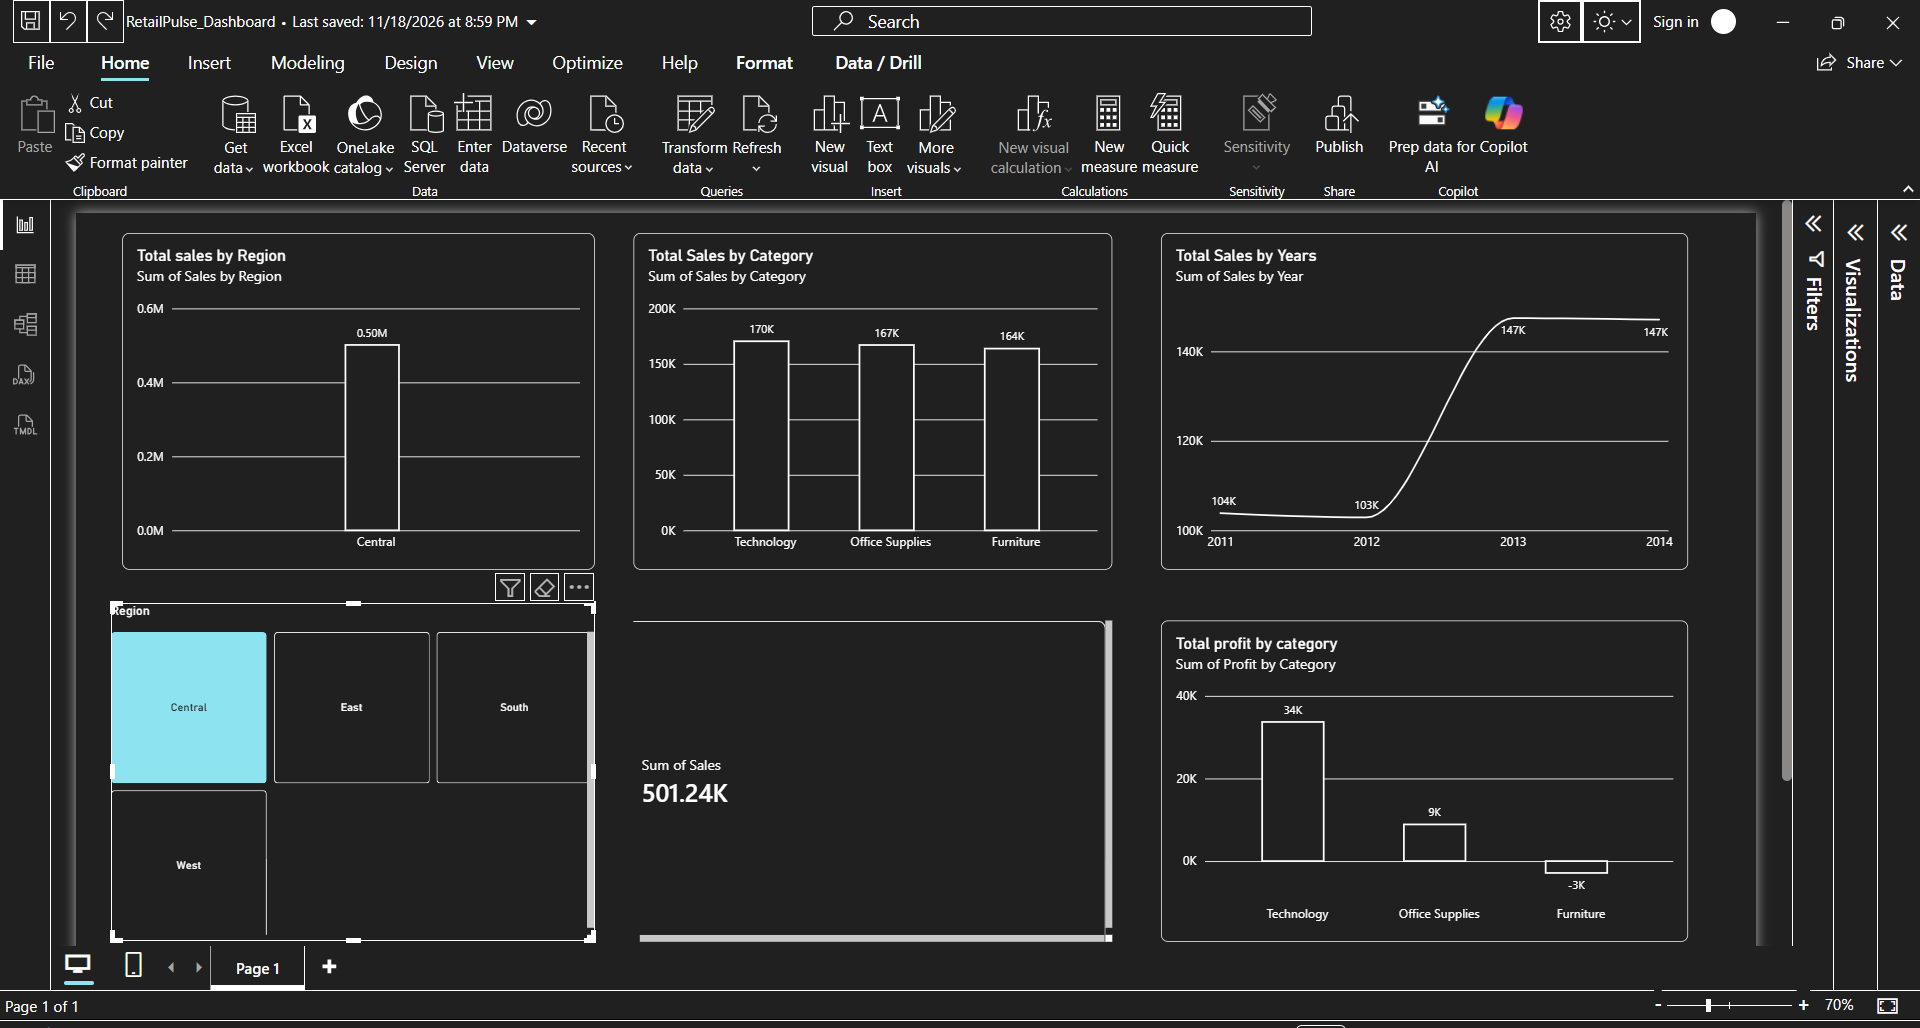

The dashboard page shown, as its layout file describes it:
{"tool":"powerbi","page":{"name":"Page 1","canvas":[1920,1080],"ordinal":0},"visuals":[{"type":"clusteredColumnChart","title":"Total sales by Region","fields":{"Category":["Superstore.Region"],"Y":["Sum(Superstore.Sales)"]},"box":[52.5,22.5,540,385],"z":0},{"type":"clusteredColumnChart","title":"Total Sales by Category","fields":{"Category":["Superstore.Category"],"Y":["Sum(Superstore.Sales)"]},"box":[637.5,22.5,547.5,385],"z":1},{"type":"lineChart","title":"Total Sales by Years","fields":{"Category":["Superstore.Order Date.Variation.Date Hierarchy.Year"],"Y":["Sum(Superstore.Sales)"]},"box":[1240,22.5,602.5,385],"z":2},{"type":"advancedSlicerVisual","fields":{"Values":["Superstore.Region"]},"box":[40,445,552.5,387.5],"z":3},{"type":"cardVisual","fields":{"Data":["Sum(Superstore.Sales)"]},"box":[637.5,465,547.5,367.5],"z":4},{"type":"clusteredColumnChart","title":"Total profit by category","fields":{"Category":["Superstore.Category"],"Y":["Sum(Superstore.Profit)"]},"box":[1239.6,465.1,602.6,367.4],"z":5}]}

Visuals, with their boxes on the page's 1920x1080 design canvas (x1, y1, x2, y2). These are canvas units, not pixel positions in the 1920x1028 screenshot, which may show the page scaled, cropped or inside an application window:
"Total sales by Region" clusteredColumnChart: (x1=52, y1=22, x2=592, y2=408)
"Total Sales by Category" clusteredColumnChart: (x1=638, y1=22, x2=1185, y2=408)
"Total Sales by Years" lineChart: (x1=1240, y1=22, x2=1842, y2=408)
advancedSlicerVisual - Superstore.Region: (x1=40, y1=445, x2=592, y2=832)
cardVisual - Sum(Superstore.Sales): (x1=638, y1=465, x2=1185, y2=832)
"Total profit by category" clusteredColumnChart: (x1=1240, y1=465, x2=1842, y2=832)
